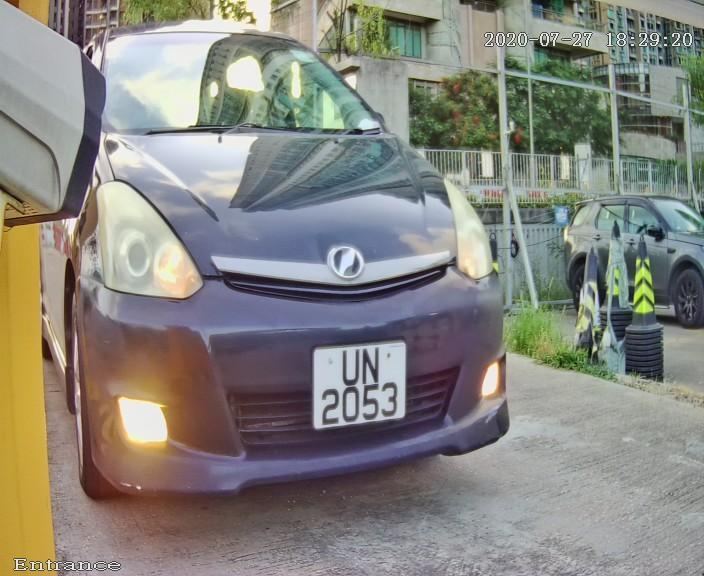privatecar: (16, 8, 563, 525)
